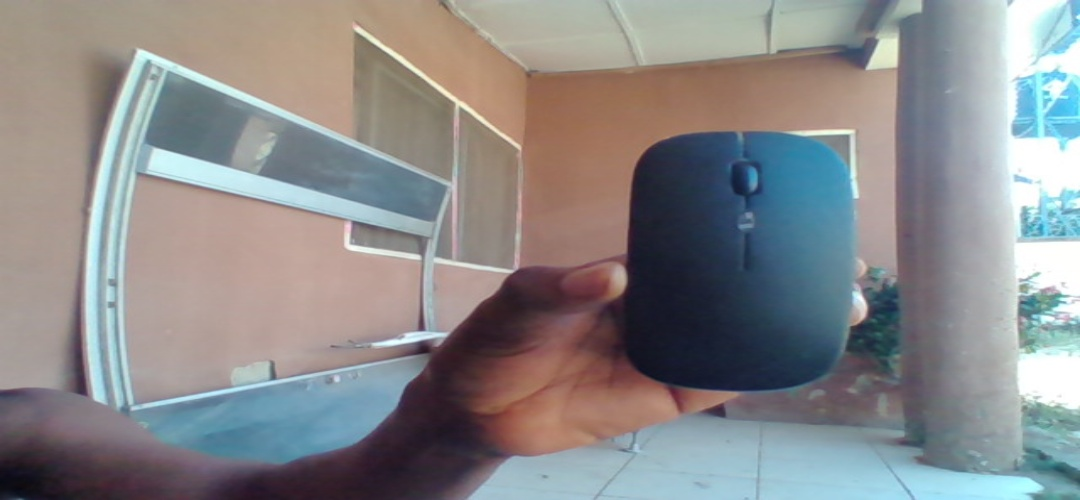wireless_mouse: (631, 127, 855, 394)
